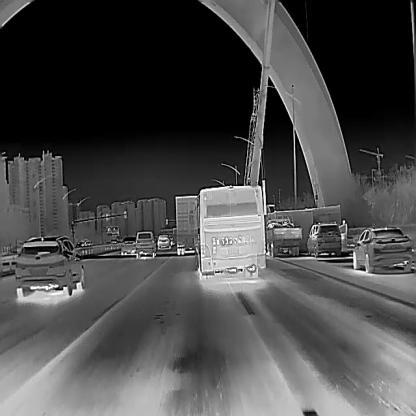car: (197, 184, 266, 278), (14, 236, 84, 296), (352, 227, 412, 272), (265, 213, 302, 256), (306, 221, 347, 258), (175, 194, 198, 254), (136, 231, 156, 258), (121, 236, 136, 254), (157, 235, 170, 249), (84, 240, 92, 247)
